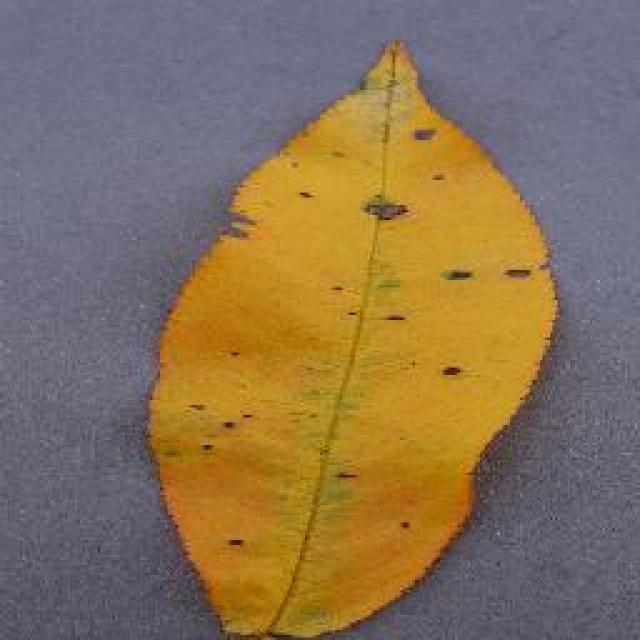Peach_Bacterial_Spot: (242, 158, 528, 510)
